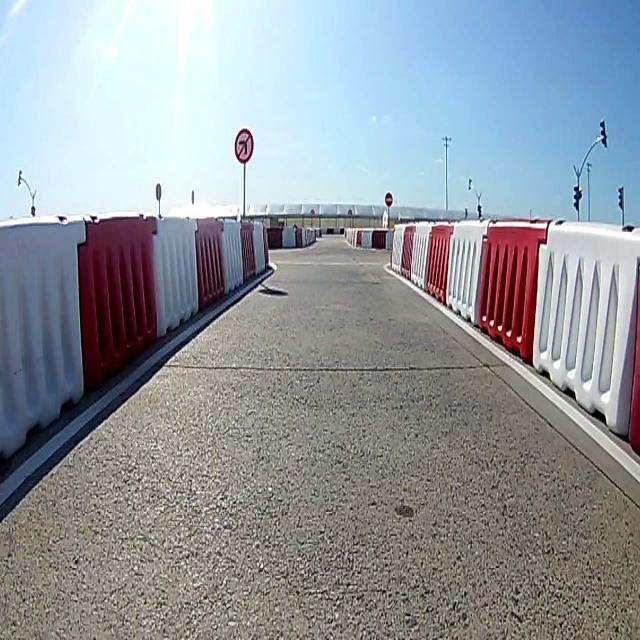girisyok: (383, 191, 394, 204)
soladonulmez: (233, 126, 253, 163)
